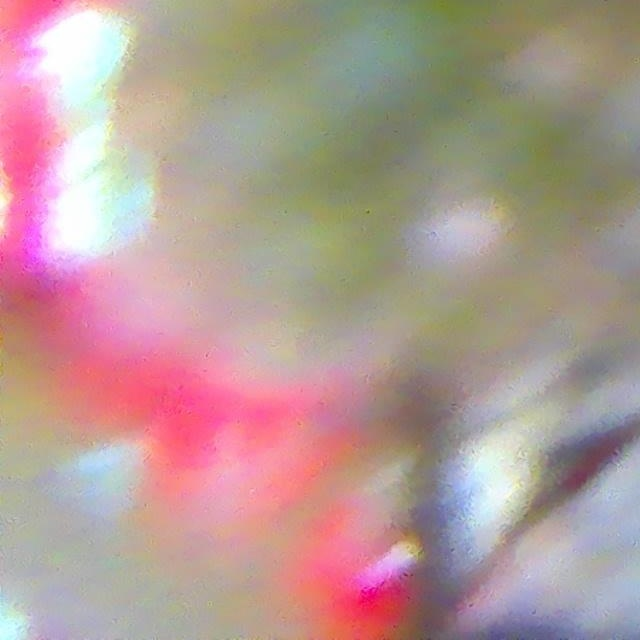SeaGrape: (322, 4, 481, 143)
